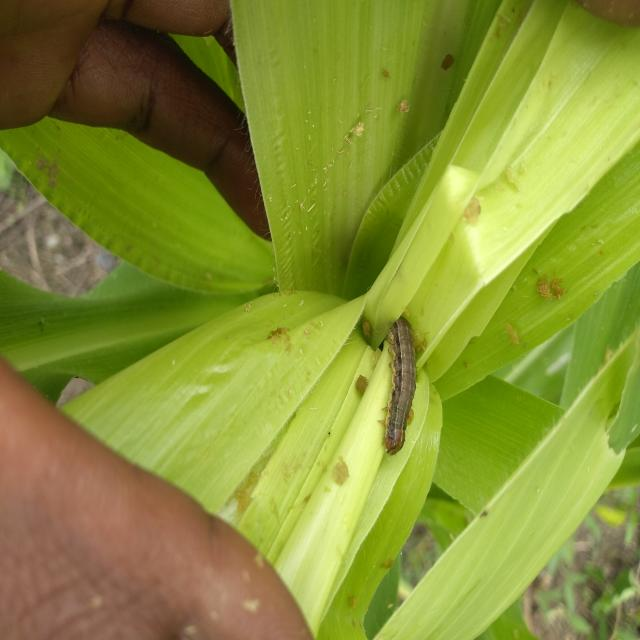yellow-stem-borer-larva: (339, 303, 449, 454)
